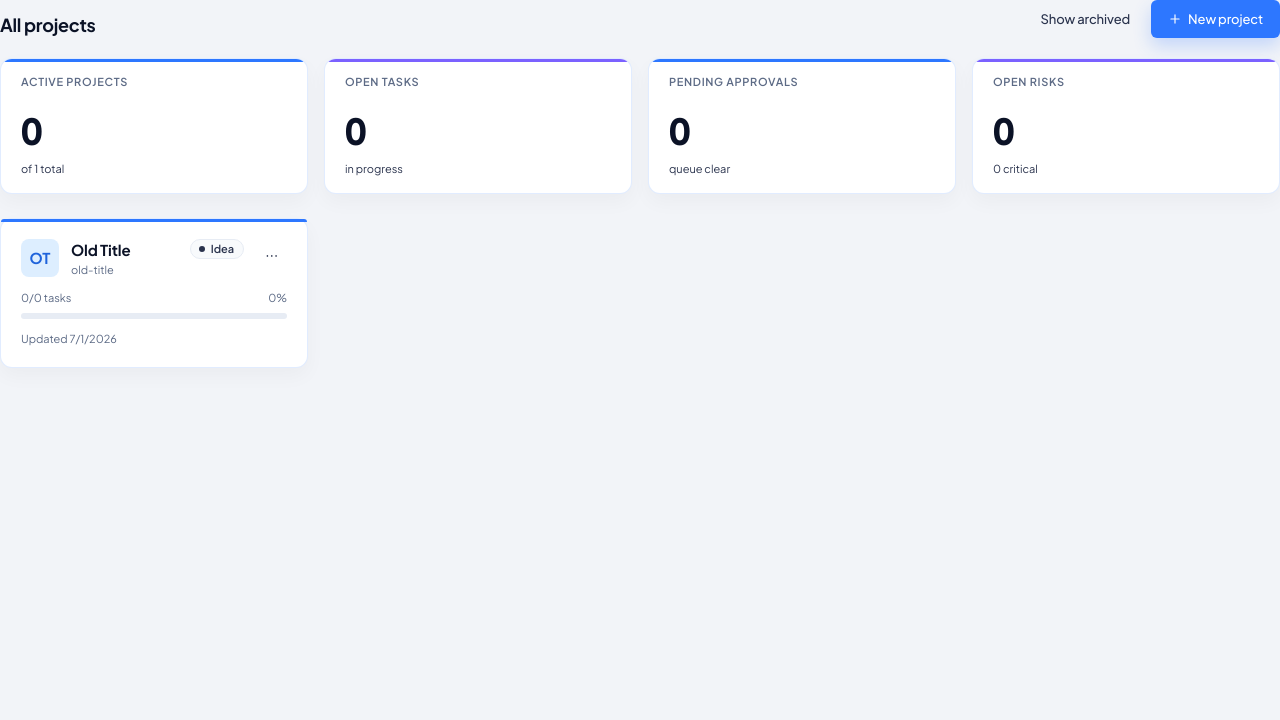
Dashboard project delete › cancelling leaves the project alone
Click the button named "Project actions" at [272, 255], box [256,239,287,271]
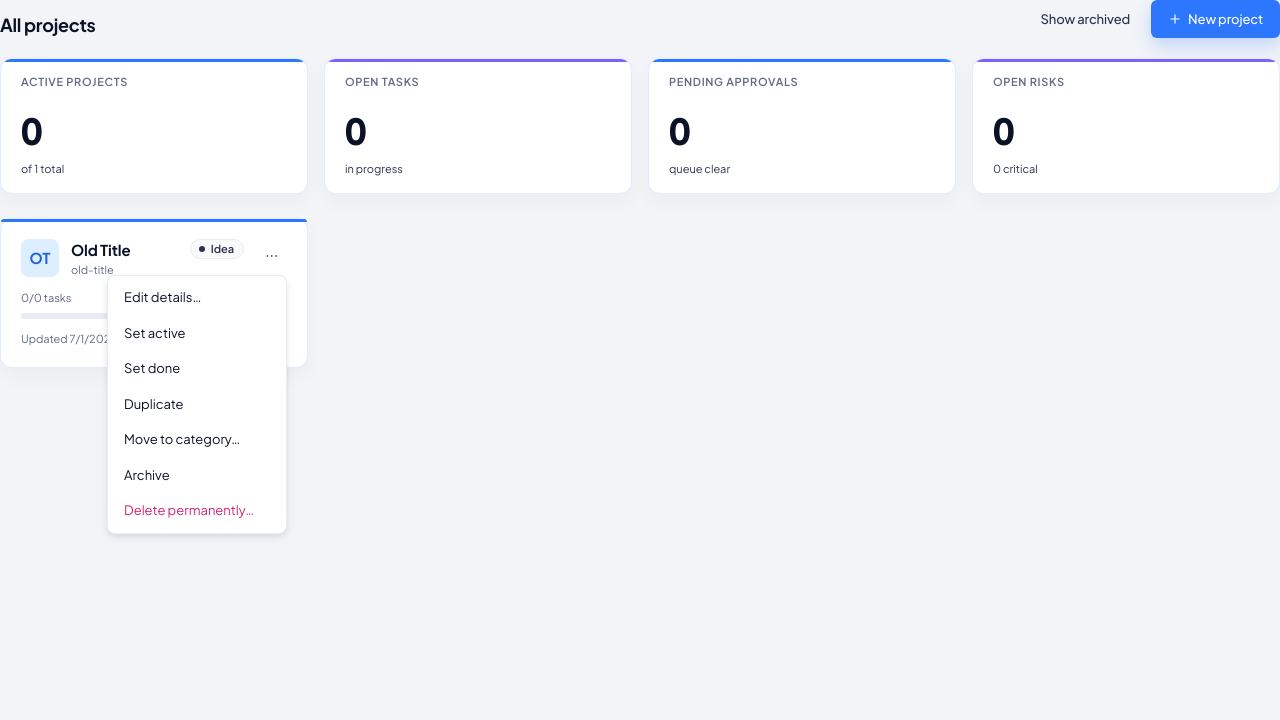
Click the menu item "Delete permanently…" at [197, 511], box [112,493,282,529]
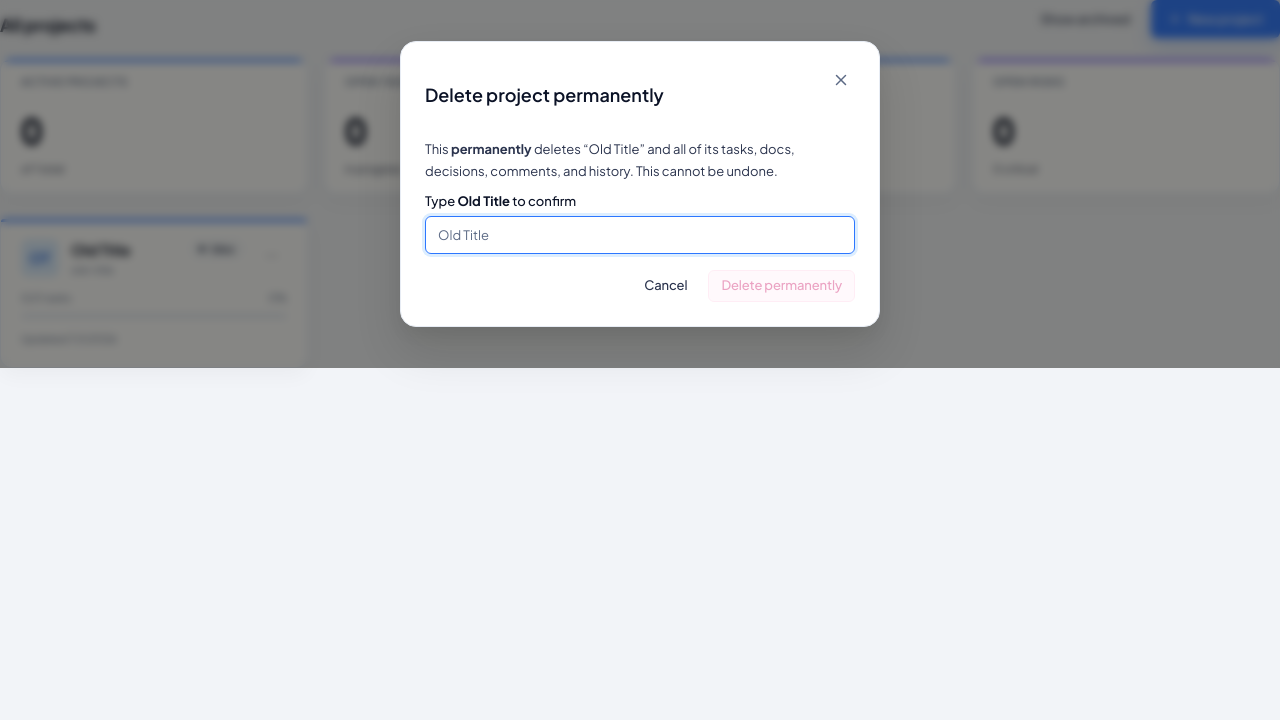
Click the button "Cancel" at [666, 286], box [631,270,700,302]
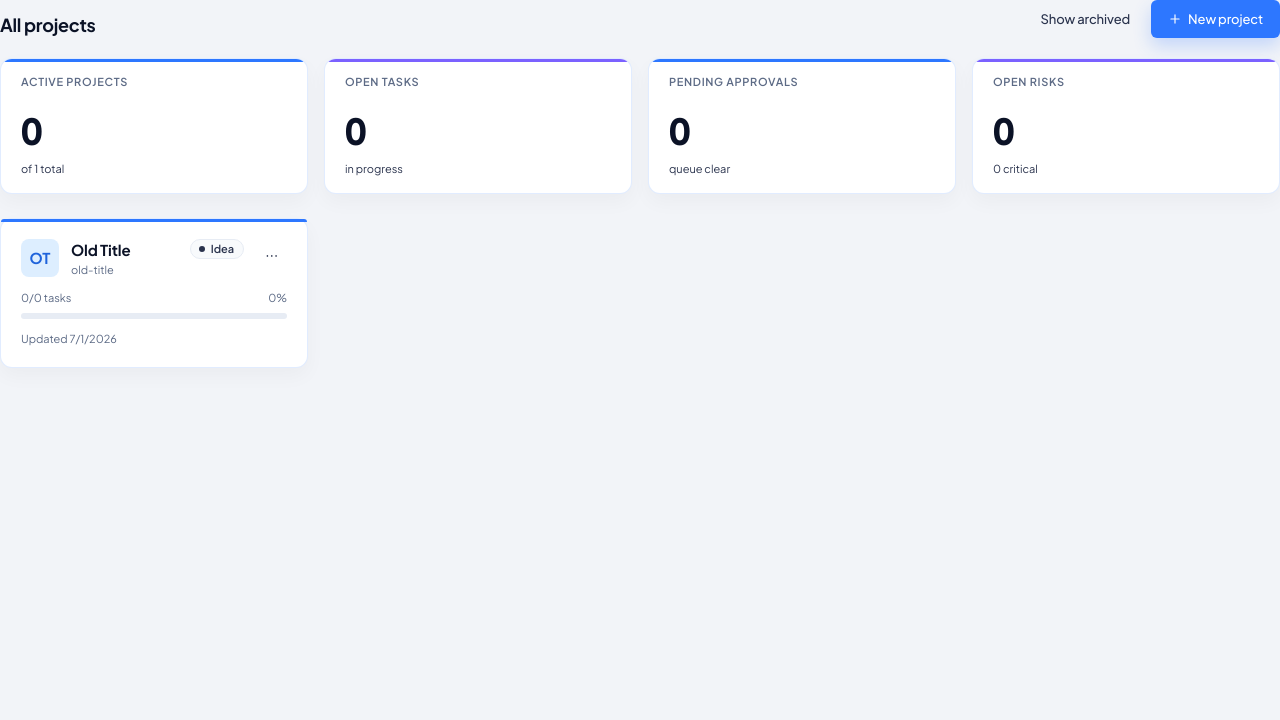
Now the heading "Delete project permanently" is gone
